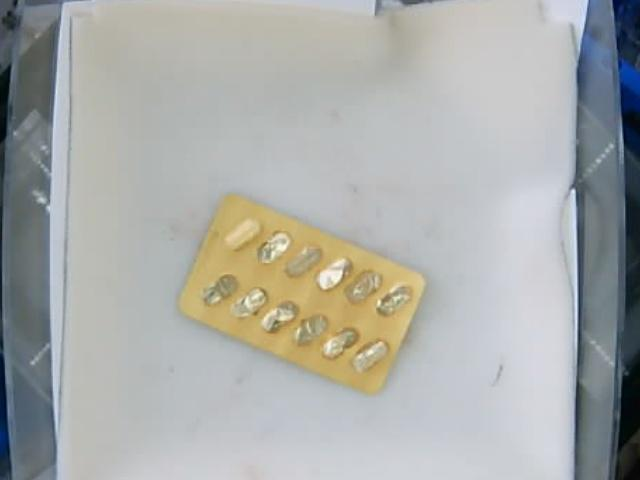Medicine: (180, 198, 424, 395)
